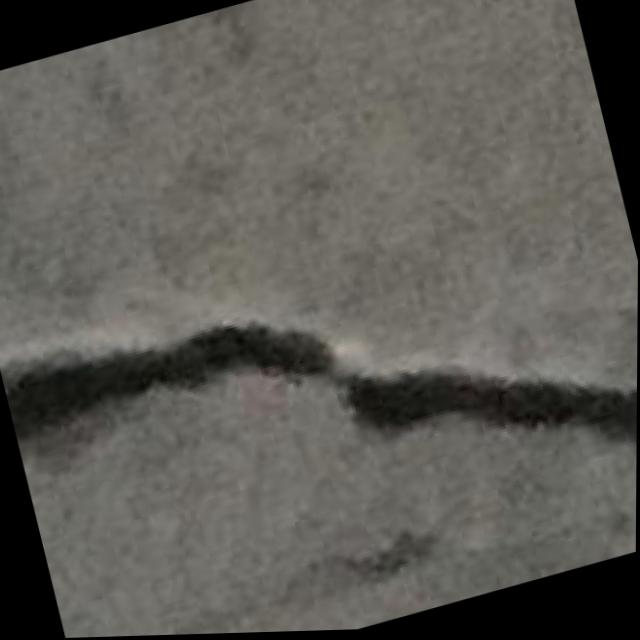Crack: (0, 158, 639, 639)
